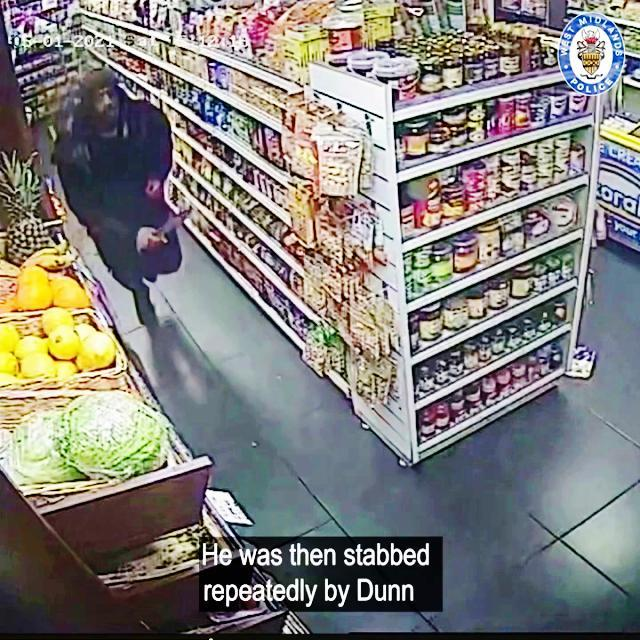Knife: (155, 201, 197, 247)
